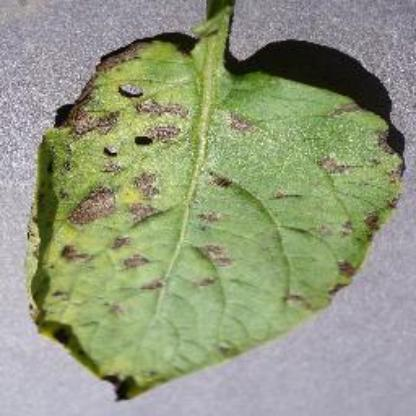Early-Blight: (25, 5, 407, 401)
